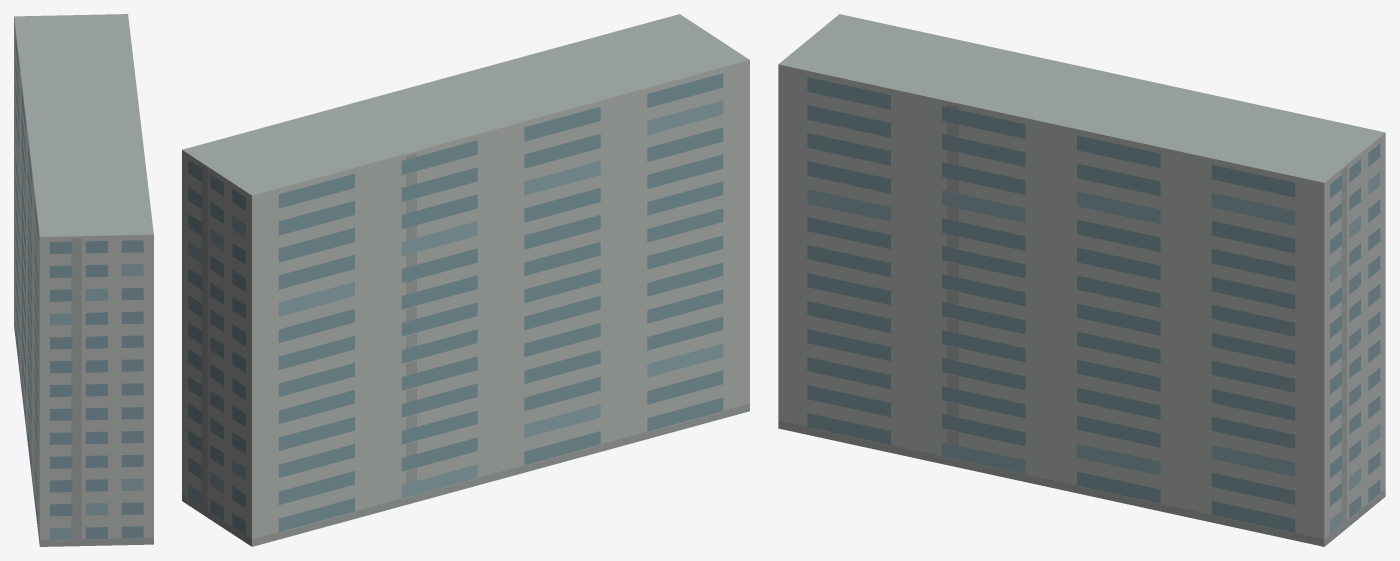
Rendered from residential-bfdfcf6a-cdb9-4712-83a5-5b99494b6c40.glb.
The picture shows the model from 3 angles, left to right: view 1: azimuth 30°, elevation 25°; view 2: azimuth 150°, elevation 25°; view 3: azimuth 270°, elevation 25°; orthographic projection. The views are drawn at different scales.
Visible parts, largest first — view 1: residential-bfdfcf6a-cdb9-4712-83a5-5b99494b6c40.tmp; view 2: residential-bfdfcf6a-cdb9-4712-83a5-5b99494b6c40.tmp; view 3: residential-bfdfcf6a-cdb9-4712-83a5-5b99494b6c40.tmp.
Part boxes in pixels (bbox=[...]): residential-bfdfcf6a-cdb9-4712-83a5-5b99494b6c40.tmp: bbox=[14, 14, 153, 546]; residential-bfdfcf6a-cdb9-4712-83a5-5b99494b6c40.tmp: bbox=[182, 14, 749, 546]; residential-bfdfcf6a-cdb9-4712-83a5-5b99494b6c40.tmp: bbox=[778, 14, 1385, 546].
Size of the model in its own units: 35.82 by 36 by 54.45.
